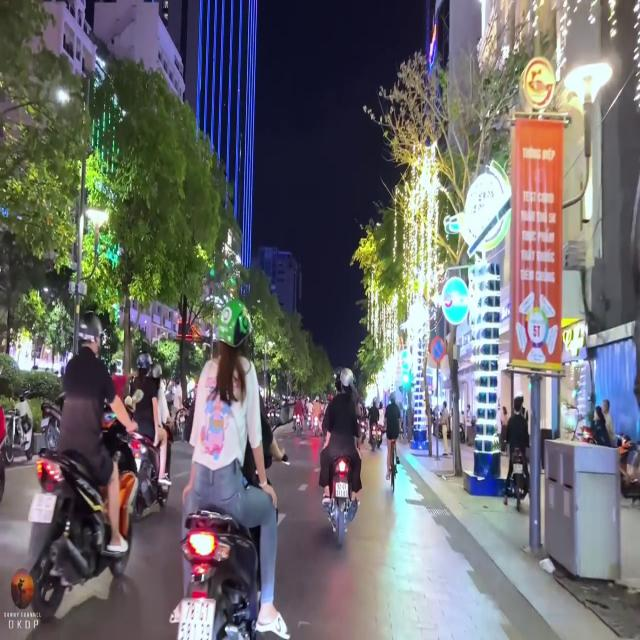bien_trang: (184, 599, 214, 640)
